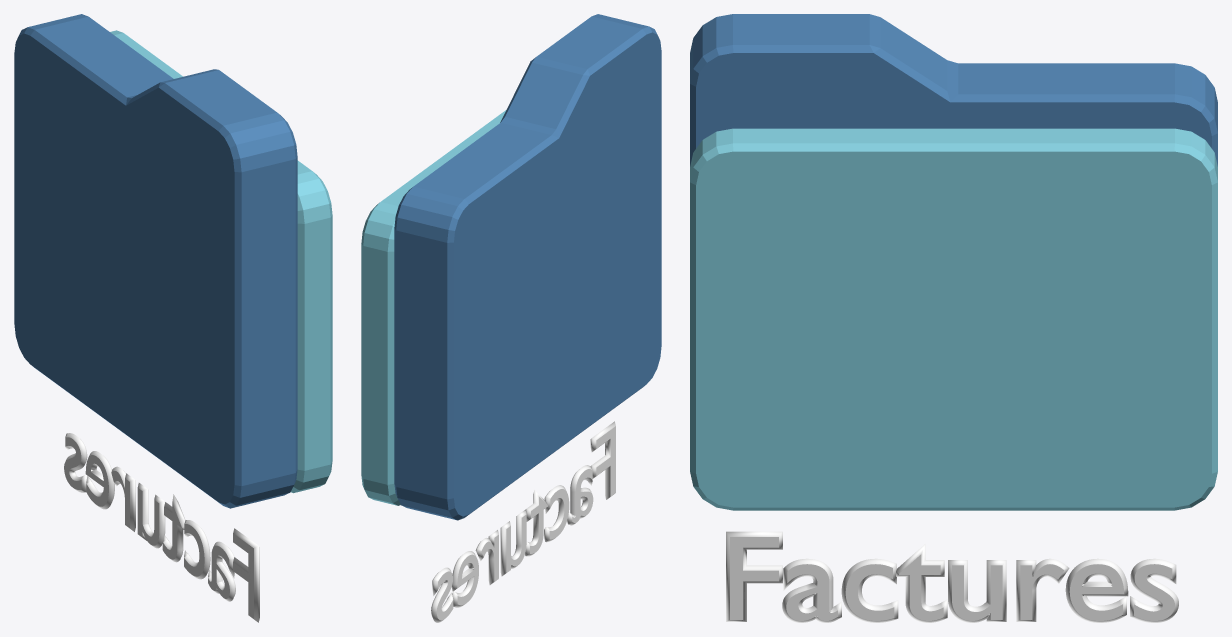
File: Folder_Factures.fbx
3 renders of one model, left to right at view 1: azimuth 30°, elevation 25°; view 2: azimuth 150°, elevation 25°; view 3: azimuth 270°, elevation 25°, orthographic. The views are drawn at different scales.
Visible parts, largest first — view 1: FolderIcon_2, Text.001; view 2: FolderIcon_2, Text.001; view 3: FolderIcon_2, Text.001.
Part boxes in pixels (x1=…): FolderIcon_2: x1=14, y1=14, x2=332, y2=508; Text.001: x1=64, y1=433, x2=259, y2=622; FolderIcon_2: x1=361, y1=14, x2=661, y2=520; Text.001: x1=431, y1=421, x2=615, y2=622; FolderIcon_2: x1=690, y1=14, x2=1217, y2=510; Text.001: x1=726, y1=531, x2=1178, y2=622.
Bounding box in the file's own units: 65.51 × 322 × 261.
